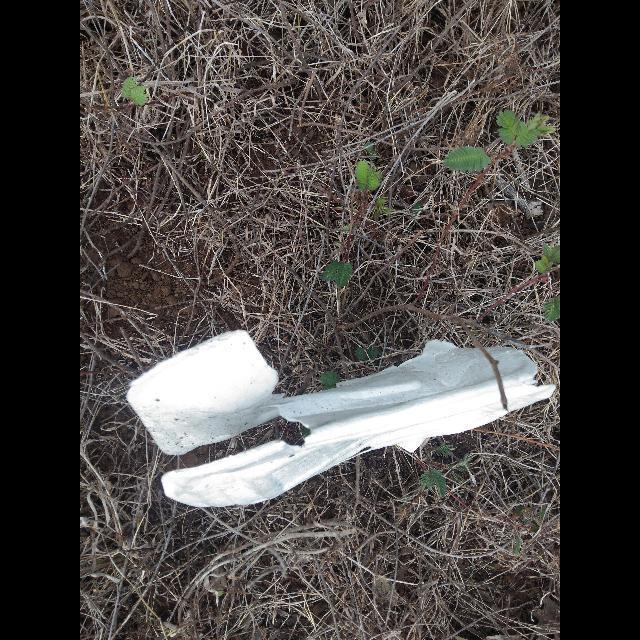Plastic: (127, 329, 556, 506)
